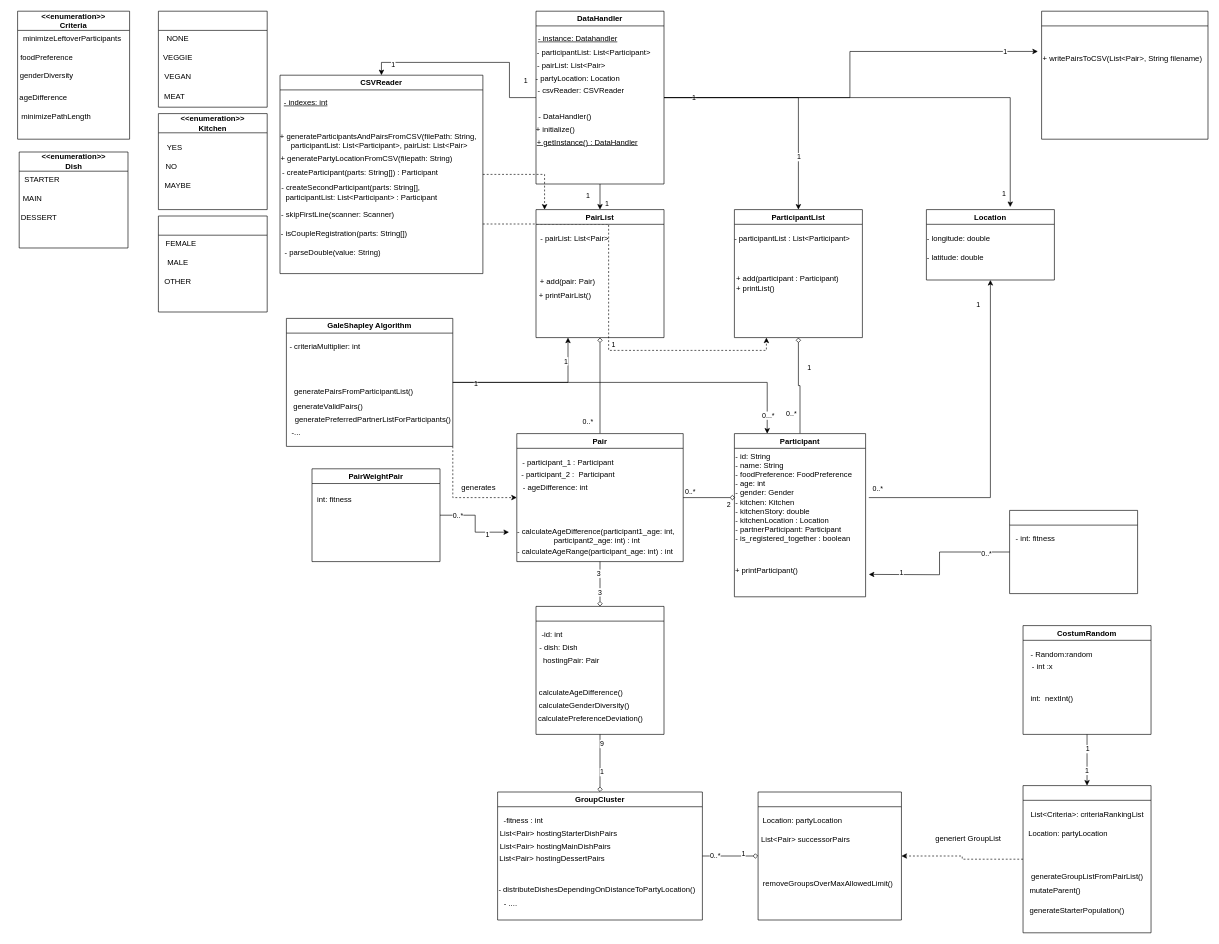
This 1219x944 diagram has some shape labels left out. Here are the shapes that lost their labels. From the top down, the box of each, then its label:
(158, 11, 267, 107): <<enumeration>> FoodPreference
(1041, 11, 1208, 139): CSVWriter
(158, 215, 267, 312): <<enumeration>> Gender
(1009, 510, 1138, 594): ParticipantWeightPair
(535, 606, 664, 734): Group
(757, 791, 901, 920): GroupList
(1022, 785, 1151, 933): GeneticAlgorithm
